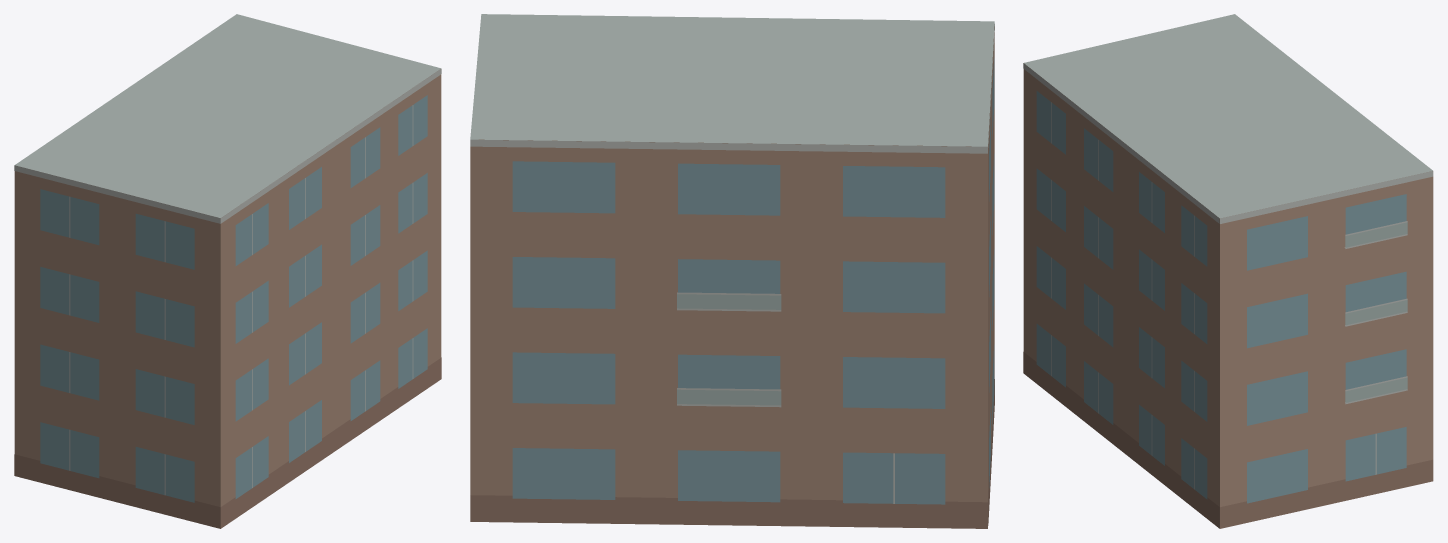
File: survey-upis-33014531.glb
The picture shows the model from 3 angles, left to right: view 1: azimuth 30°, elevation 25°; view 2: azimuth 150°, elevation 25°; view 3: azimuth 270°, elevation 25°; orthographic projection. The views are drawn at different scales.
Parts seen in each view (by area): view 1: survey-upis-33014531.tmp; view 2: survey-upis-33014531.tmp; view 3: survey-upis-33014531.tmp.
Part boxes in pixels (x1,y1,x2,y2): survey-upis-33014531.tmp: [14, 14, 441, 528]; survey-upis-33014531.tmp: [470, 14, 994, 528]; survey-upis-33014531.tmp: [1023, 14, 1433, 528].
Size of the model in its own units: 18.66 by 13.2 by 15.81.
